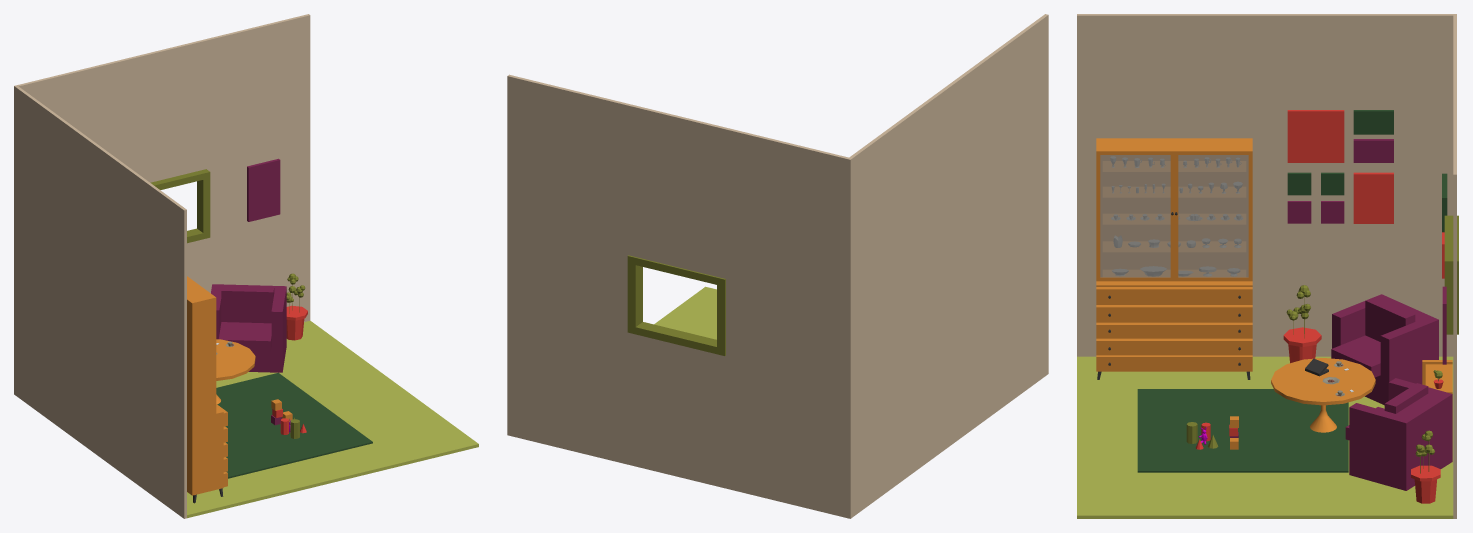
File: Try.fbx
3 views of the same model, side by side, from view 1: azimuth 30°, elevation 25°; view 2: azimuth 150°, elevation 25°; view 3: azimuth 270°, elevation 25° (orthographic). The views are drawn at different scales.
Visible parts, largest first — view 1: polySurface49, polySurface51, polySurface50, polySurface39, polySurface69, polySurface6, polySurface94, polySurface5, polySurface125, polySurface4, polySurface9; view 2: polySurface51, polySurface49, polySurface125, polySurface50; view 3: polySurface49, polySurface50, polySurface39, polySurface69, polySurface162, polySurface163, polySurface6, polySurface3, polySurface9, polySurface88, polySurface56, polySurface59 (+24 smaller).
Boxes of the visible parts, x1,y1,x2,y2 form: polySurface49: [14, 85, 186, 518]; polySurface51: [17, 14, 310, 321]; polySurface50: [187, 320, 478, 518]; polySurface39: [216, 372, 372, 478]; polySurface69: [187, 277, 223, 495]; polySurface6: [211, 284, 286, 372]; polySurface94: [247, 158, 280, 221]; polySurface5: [221, 286, 274, 323]; polySurface125: [150, 169, 210, 243]; polySurface4: [219, 322, 271, 351]; polySurface9: [216, 339, 255, 380]; polySurface51: [507, 74, 848, 517]; polySurface49: [847, 14, 1048, 518]; polySurface125: [627, 255, 725, 355]; polySurface50: [654, 286, 716, 339]; polySurface49: [1077, 14, 1456, 356]; polySurface50: [1077, 356, 1453, 518]; polySurface39: [1137, 389, 1348, 472]; polySurface69: [1096, 138, 1252, 322]; polySurface162: [1100, 155, 1170, 277]; polySurface163: [1178, 155, 1248, 277]; polySurface6: [1349, 378, 1452, 490]; polySurface3: [1332, 294, 1438, 405]; polySurface9: [1271, 358, 1375, 405]; polySurface88: [1287, 110, 1344, 162]; polySurface56: [1096, 287, 1252, 304]; polySurface59: [1096, 338, 1252, 355].
Size of what is drawn, in the model's own units: 101 by 101 by 101.
